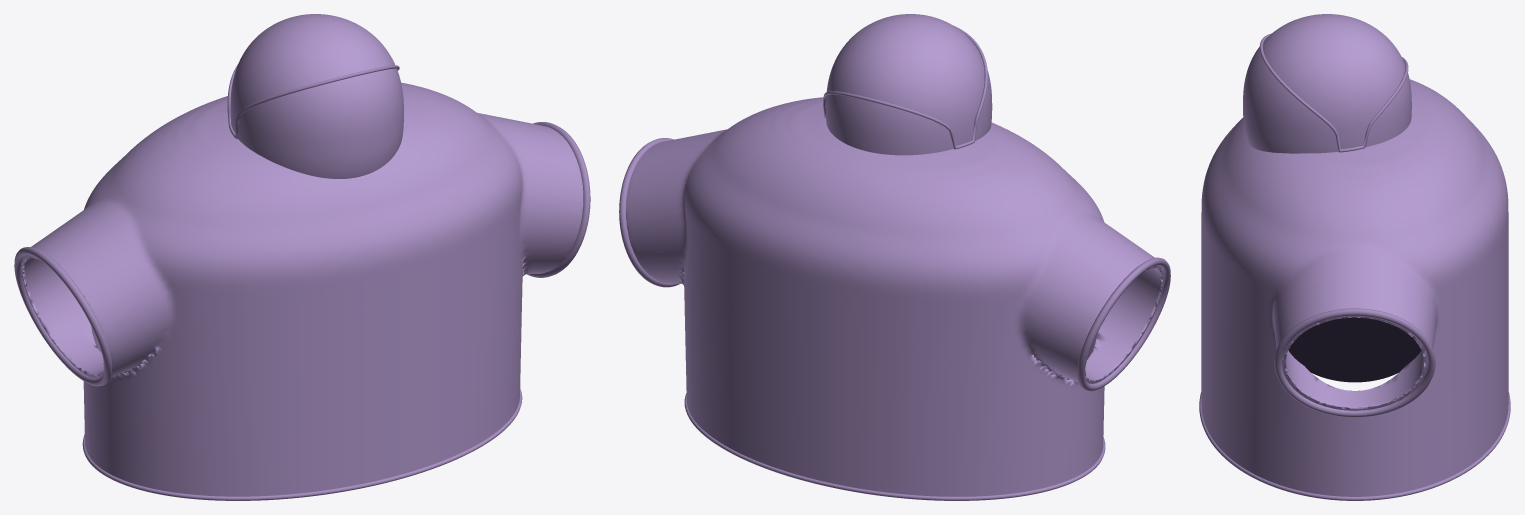
File: Masculine-sweatshirt-top.glb
3 views of the same model, side by side, from view 1: azimuth 30°, elevation 25°; view 2: azimuth 150°, elevation 25°; view 3: azimuth 270°, elevation 25° (orthographic). The views are drawn at different scales.
Parts seen in each view (by area): view 1: Clothing / sweatshirt, Sleeve / open cuff -1 export, Shirt / hem export, Sleeve / open cuff 1 export, Neckline / seated binding export; view 2: Clothing / sweatshirt, Sleeve / open cuff -1 export, Shirt / hem export, Sleeve / open cuff 1 export, Neckline / seated binding export; view 3: Clothing / sweatshirt, Sleeve / recessed facing 1, Sleeve / open cuff 1 export, Shirt / hem export, Neckline / seated binding export.
Part boxes in pixels (bbox=[...]): Clothing / sweatshirt: bbox=[20, 14, 583, 496]; Sleeve / open cuff -1 export: bbox=[14, 247, 112, 386]; Shirt / hem export: bbox=[82, 389, 522, 500]; Sleeve / open cuff 1 export: bbox=[527, 122, 590, 277]; Neckline / seated binding export: bbox=[227, 64, 399, 138]; Clothing / sweatshirt: bbox=[626, 14, 1164, 496]; Sleeve / open cuff -1 export: bbox=[1077, 257, 1170, 391]; Shirt / hem export: bbox=[684, 393, 1105, 500]; Sleeve / open cuff 1 export: bbox=[619, 138, 679, 287]; Neckline / seated binding export: bbox=[823, 25, 987, 149]; Clothing / sweatshirt: bbox=[1201, 14, 1508, 496]; Sleeve / recessed facing 1: bbox=[1288, 317, 1421, 382]; Sleeve / open cuff 1 export: bbox=[1274, 308, 1435, 417]; Shirt / hem export: bbox=[1199, 392, 1510, 500]; Neckline / seated binding export: bbox=[1259, 33, 1408, 152].
Bounding box in the file's own units: 1.03 × 0.772 × 0.564.
